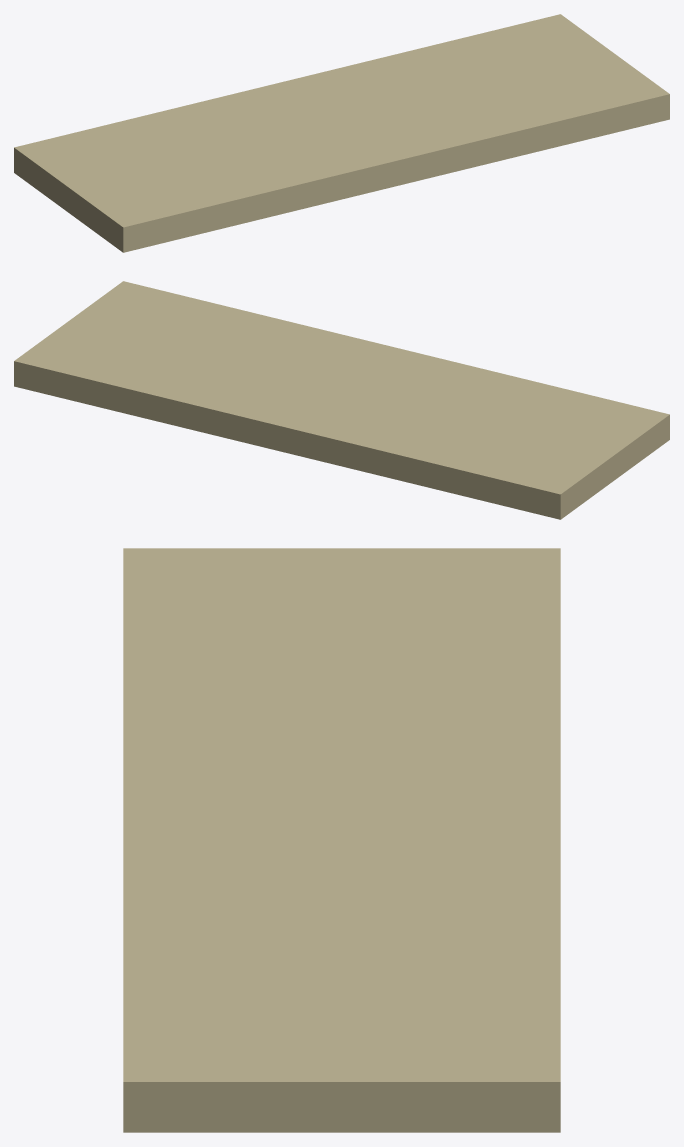
File: TempleStairs.fbx
3 views of the same model, one above another, from view 1: azimuth 30°, elevation 25°; view 2: azimuth 150°, elevation 25°; view 3: azimuth 270°, elevation 25° (orthographic). The views are drawn at different scales.
Parts seen in each view (by area): view 1: Stair1, Stair12, Stair5, Stair6, Stair7, Stair11, Stair13, Stair2, Stair3, Stair8, Stair9, Stair14 (+4 smaller); view 2: Stair1, Stair12, Stair5, Stair6, Stair7, Stair11, Stair13, Stair2, Stair3, Stair8, Stair9, Stair14 (+4 smaller); view 3: Stair16, Stair1, Stair2, Stair3, Stair4, Stair5, Stair6, Stair7, Stair8, Stair9, Stair10, Stair11 (+4 smaller).
Part boxes in pixels (bbox=[...]): Stair1: bbox=[14, 139, 157, 252]; Stair12: bbox=[390, 47, 533, 160]; Stair5: bbox=[151, 106, 294, 219]; Stair6: bbox=[185, 97, 328, 210]; Stair7: bbox=[219, 89, 362, 202]; Stair11: bbox=[356, 56, 499, 169]; Stair13: bbox=[424, 39, 567, 152]; Stair2: bbox=[48, 131, 191, 244]; Stair3: bbox=[82, 122, 225, 235]; Stair8: bbox=[253, 81, 396, 194]; Stair9: bbox=[287, 72, 430, 185]; Stair14: bbox=[458, 31, 601, 144]; Stair1: bbox=[526, 406, 669, 519]; Stair12: bbox=[150, 314, 293, 427]; Stair5: bbox=[389, 373, 532, 486]; Stair6: bbox=[355, 364, 498, 477]; Stair7: bbox=[321, 356, 464, 469]; Stair11: bbox=[184, 323, 327, 436]; Stair13: bbox=[116, 306, 259, 419]; Stair2: bbox=[492, 398, 635, 511]; Stair3: bbox=[458, 389, 601, 502]; Stair8: bbox=[287, 348, 430, 461]; Stair9: bbox=[253, 339, 396, 452]; Stair14: bbox=[82, 298, 225, 411]; Stair16: bbox=[123, 1048, 560, 1132]; Stair1: bbox=[123, 548, 560, 581]; Stair2: bbox=[123, 581, 560, 614]; Stair3: bbox=[123, 615, 560, 648]; Stair4: bbox=[123, 648, 560, 681]; Stair5: bbox=[123, 681, 560, 714]; Stair6: bbox=[123, 715, 560, 748]; Stair7: bbox=[123, 748, 560, 781]; Stair8: bbox=[123, 781, 560, 814]; Stair9: bbox=[123, 815, 560, 848]; Stair10: bbox=[123, 848, 560, 881]; Stair11: bbox=[123, 882, 560, 915].
Size of the model in its own units: 11.87 by 0.5259 by 4.11.
